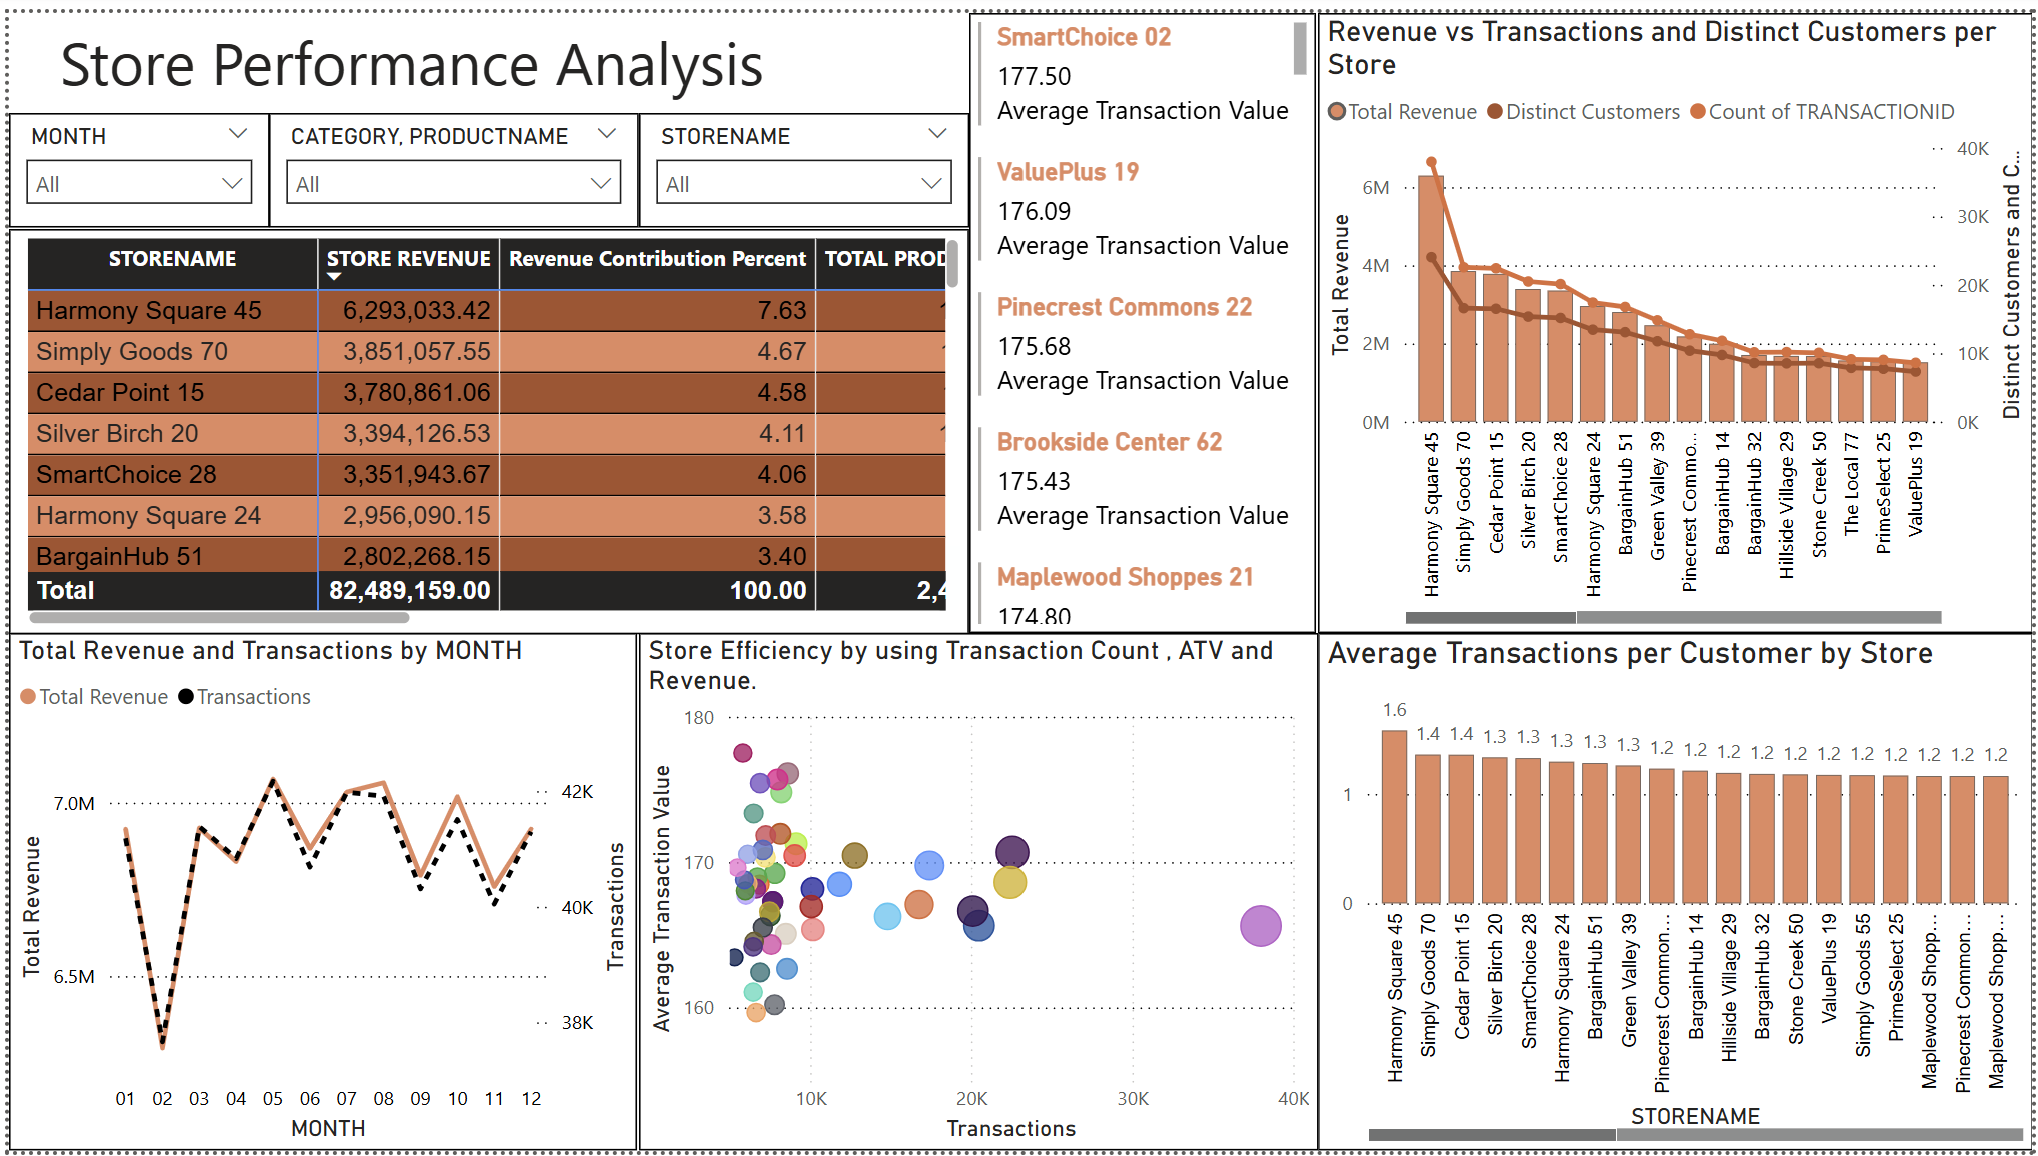

This screenshot's page, from the dashboard's own definition file:
{"tool":"powerbi","page":{"name":"Store Performance Analysis","canvas":[1280,720],"ordinal":1},"visuals":[{"type":"pivotTable","fields":{"Values":["Sum(STORE_PERFORMANCE_ANALYSIS.STORE_REVENUE)","Sum(STORE_PERFORMANCE_ANALYSIS.REVENUE_PERCENTAGE_CONTRIBUTION)","Sum(STORE_PERFORMANCE_ANALYSIS.TOTAL_PRODUCTS_SOLD)","CATEGORY_SHARE.Sum of STORE_REVENUE divided by Sum of TOTAL_PRODUCTS_SOLD","Sum(STORE_CUSTOMER_ANALYSIS.UNIQUECUSTOMERS)","Count(TRANSACTIONS.TRANSACTIONID)"],"Rows":["STORES.STORENAME"]},"box":[0,136.2,607.5,256.2],"z":0},{"type":"lineClusteredColumnComboChart","title":"Revenue vs Transactions and Distinct Customers per Store","fields":{"Category":["STORES.STORENAME"],"Y":["Sum(TRANSACTIONS.TOTALPRICE)"],"Y2":["Count(TRANSACTIONS.CUSTOMERID)","Count(TRANSACTIONS.TRANSACTIONID)"]},"box":[827.4,0,452.6,392.7],"z":1000},{"type":"lineChart","fields":{"Category":["TRANSACTIONS.MONTH"],"Y":["Sum(TRANSACTIONS.TOTALPRICE)"],"Y2":["Count(TRANSACTIONS.TRANSACTIONID)"]},"box":[0,392.5,397.5,327.5],"z":2000},{"type":"slicer","fields":{"Values":["TRANSACTIONS.MONTH"]},"box":[0,63.8,165,72.5],"z":3000},{"type":"slicer","fields":{"Values":["PRODUCTS.CATEGORY","PRODUCTS.PRODUCTNAME"]},"box":[165,63.8,233.8,72.5],"z":4000},{"type":"slicer","fields":{"Values":["STORES.STORENAME"]},"box":[398.8,63.8,208.8,72.5],"z":5000},{"type":"clusteredColumnChart","title":"Average Transactions per Customer by Store","fields":{"Category":["STORES.STORENAME"],"Y":["CATEGORY_SHARE.Count of TRANSACTIONID divided by Count of CUSTOMERID"]},"box":[827.4,392.7,452.6,327.6],"z":6000},{"type":"textbox","box":[0,0,510,60],"z":7000},{"type":"multiRowCard","fields":{"Values":["STORES.STORENAME","CATEGORY_SHARE.Sum of TOTALPRICE divided by Count of TRANSACTIONID"]},"box":[607.5,0,218.8,392.5],"z":8000},{"type":"scatterChart","title":"Store Efficiency by using Transaction Count , ATV and Revenue.","fields":{"X":["TRANSACTIONS.TRANSACTIONID"],"Y":["CATEGORY_SHARE.Sum of TOTALPRICE divided by Count of TRANSACTIONID"],"Series":["STORES.STORENAME"],"Size":["Sum(TRANSACTIONS.TOTALPRICE)"]},"box":[399,392.7,429.6,327.6],"z":9000}]}

Visuals, with their boxes in screenshot pixels (x1, y1, x2, y2), scaled from the page's 1280x720 canvas onto the 2038x1156 screenshot:
pivotTable - Sum(STORE_PERFORMANCE_ANALYSIS.STORE_REVENUE) x Sum(STORE_PERFORMANCE_ANALYSIS.REVENUE_PERCENTAGE_CONTRIBUTION): 0, 219, 967, 630
"Revenue vs Transactions and Distinct Customers per Store" lineClusteredColumnComboChart: 1317, 0, 2037, 631
lineChart - TRANSACTIONS.MONTH x Sum(TRANSACTIONS.TOTALPRICE): 0, 630, 633, 1155
slicer - TRANSACTIONS.MONTH: 0, 102, 263, 219
slicer - PRODUCTS.CATEGORY x PRODUCTS.PRODUCTNAME: 263, 102, 635, 219
slicer - STORES.STORENAME: 635, 102, 967, 219
"Average Transactions per Customer by Store" clusteredColumnChart: 1317, 631, 2037, 1155
textbox: 0, 0, 812, 96
multiRowCard - STORES.STORENAME x CATEGORY_SHARE.Sum of TOTALPRICE divided by Count of TRANSACTIONID: 967, 0, 1316, 630
"Store Efficiency by using Transaction Count , ATV and Revenue." scatterChart: 635, 631, 1319, 1155
